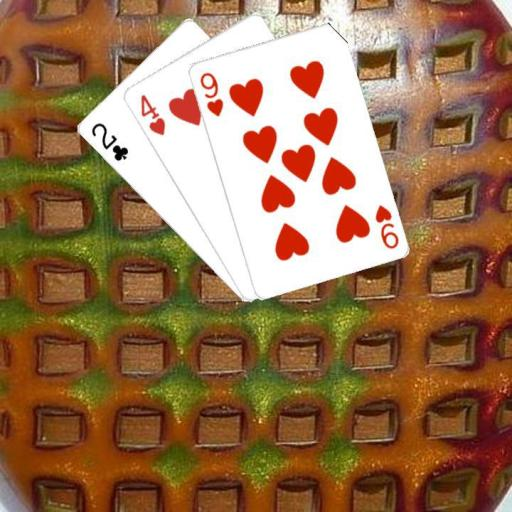2C: (88, 119, 130, 163)
4H: (137, 91, 167, 137)
9H: (196, 68, 225, 118), (371, 202, 400, 251)
